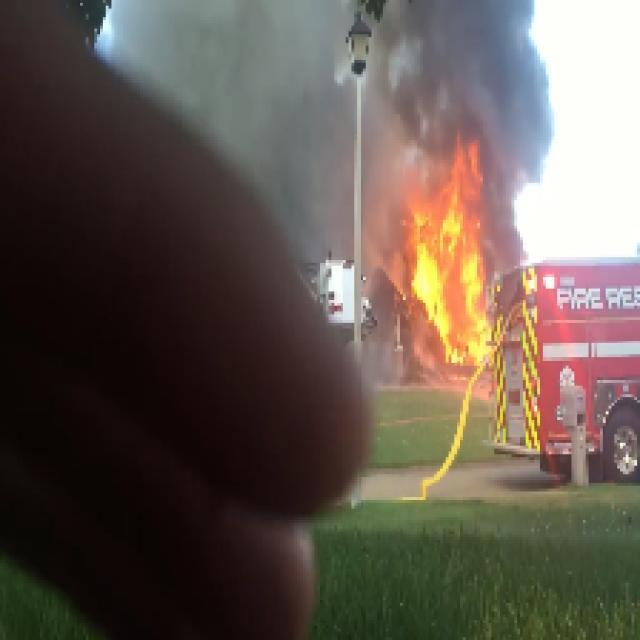Fire: (411, 143, 486, 360)
Smoke: (397, 2, 560, 138), (177, 2, 346, 114)
